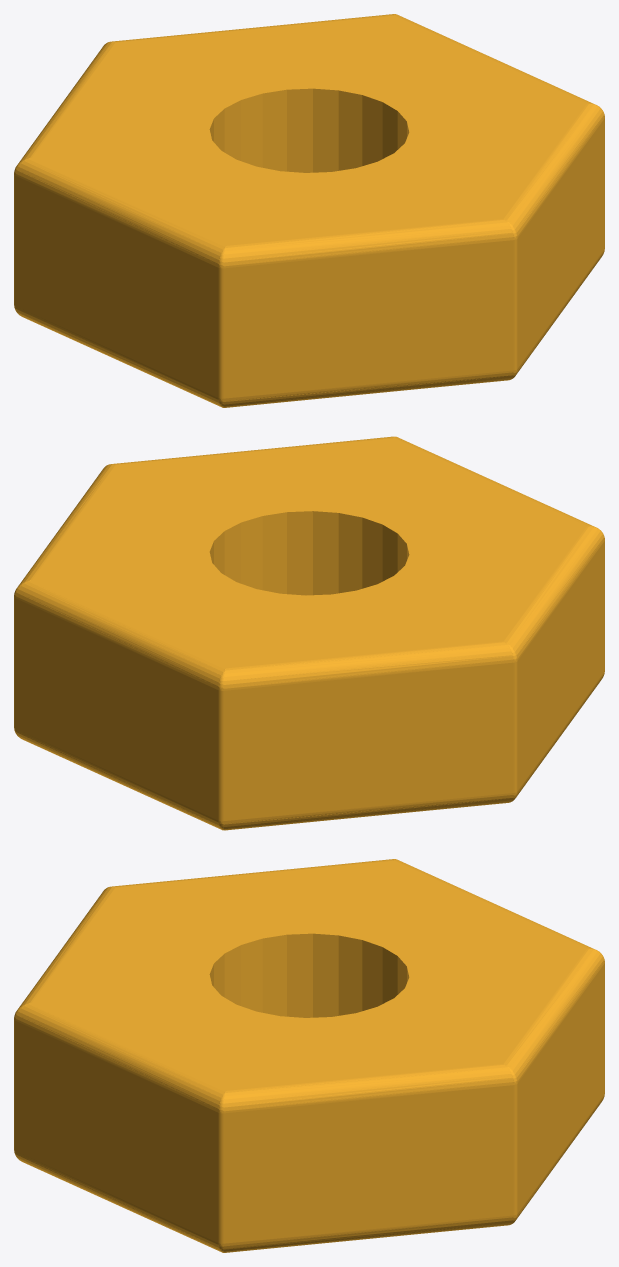
Rendered from kria_kv_260_PC104_SN_XX_XX_7_SOLID1_1_PC104_SN_XX_XX_7_SOLID1_1.obj.
3 renders of one model, top to bottom at view 1: azimuth 30°, elevation 25°; view 2: azimuth 150°, elevation 25°; view 3: azimuth 270°, elevation 25°, orthographic.
Size of the model in its own units: 0.00525 by 0.0016 by 0.00534.
